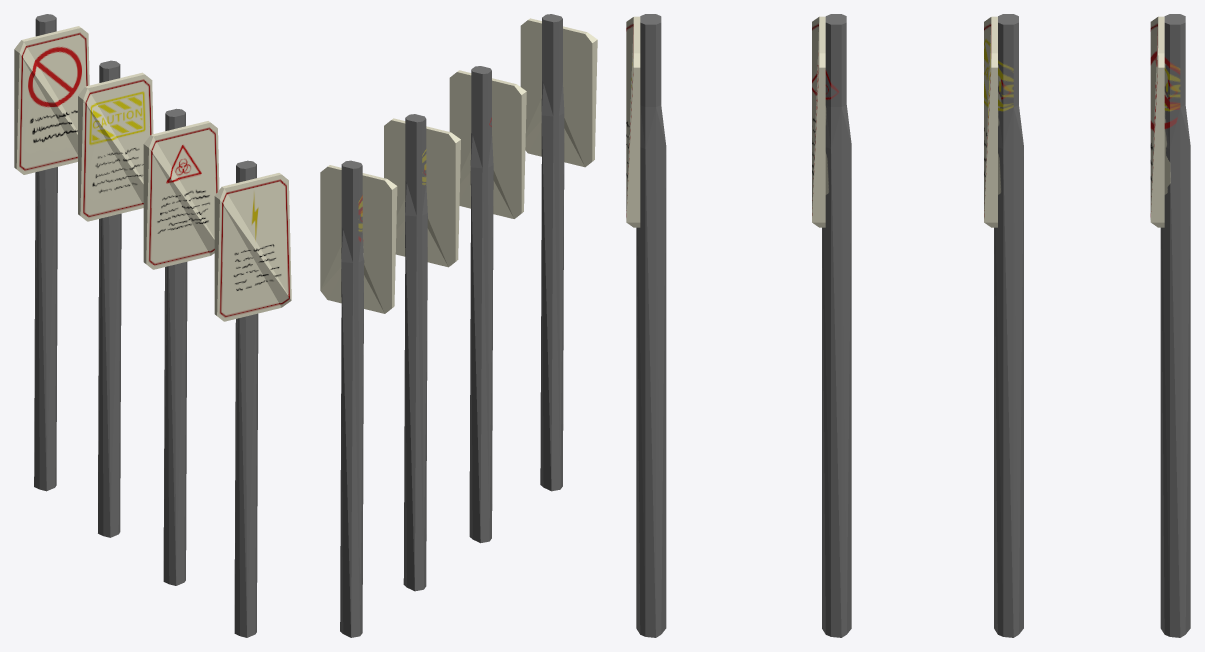
File: SM_parksign_3_AN.fbx
3 renders of one model, left to right at view 1: azimuth 30°, elevation 25°; view 2: azimuth 150°, elevation 25°; view 3: azimuth 270°, elevation 25°, orthographic. The views are drawn at different scales.
Parts seen in each view (by area): view 1: SM_parksign_3_AN, SM_parksign_3_AN1, SM_parksign_3_AN2, SM_parksign_3_AN3; view 2: SM_parksign_3_AN3, SM_parksign_3_AN, SM_parksign_3_AN1, SM_parksign_3_AN2; view 3: SM_parksign_3_AN3, SM_parksign_3_AN, SM_parksign_3_AN2, SM_parksign_3_AN1.
Boxes of the visible parts, x1,y1,x2,y2 form: SM_parksign_3_AN: (214,160,291,637); SM_parksign_3_AN1: (143,108,219,585); SM_parksign_3_AN2: (78,60,153,537); SM_parksign_3_AN3: (14,14,89,491); SM_parksign_3_AN3: (320,160,397,637); SM_parksign_3_AN: (520,14,597,491); SM_parksign_3_AN1: (449,66,526,543); SM_parksign_3_AN2: (384,114,460,591); SM_parksign_3_AN3: (1150,14,1190,637); SM_parksign_3_AN: (626,14,666,637); SM_parksign_3_AN2: (984,14,1023,637); SM_parksign_3_AN1: (812,14,851,637).
Size of the model in its own units: 17.46 by 109 by 90.78.
